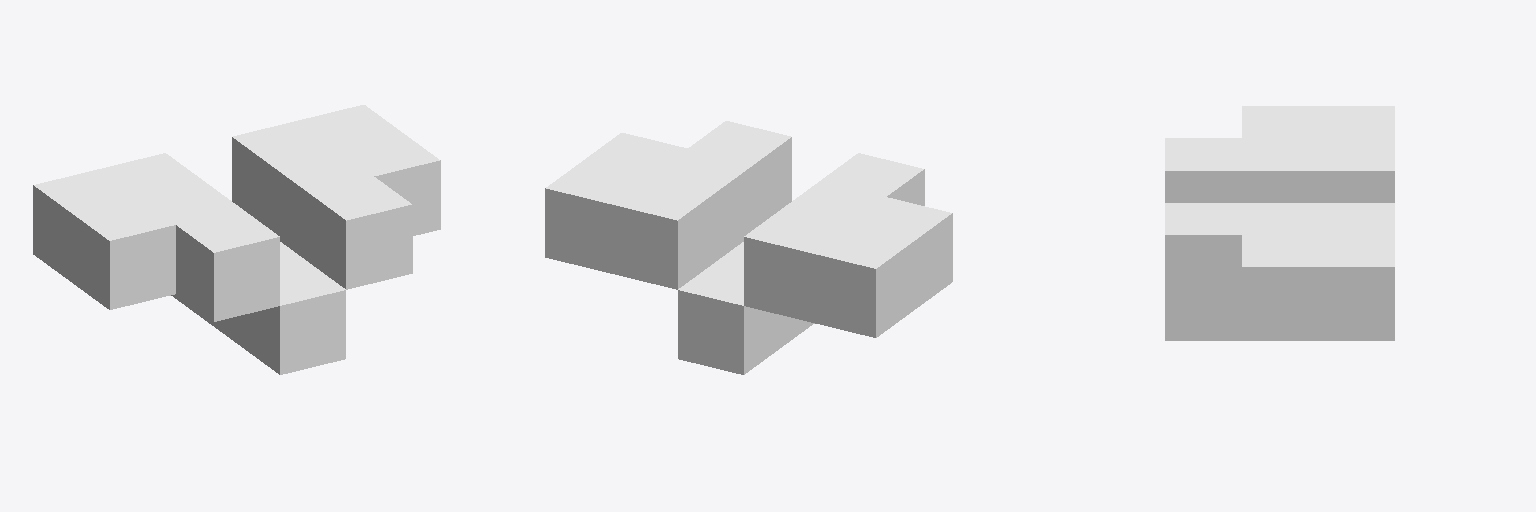
File: LawnModel-3.obj
3 renders of one model, left to right at view 1: azimuth 30°, elevation 25°; view 2: azimuth 150°, elevation 25°; view 3: azimuth 270°, elevation 25°, orthographic.
Parts seen in each view (by area): view 1: LawnModel-3; view 2: LawnModel-3; view 3: LawnModel-3.
Boxes of the visible parts, x1=… form: LawnModel-3: x1=33, y1=105, x2=440, y2=374; LawnModel-3: x1=545, y1=121, x2=952, y2=374; LawnModel-3: x1=1165, y1=106, x2=1394, y2=340.
Bounding box in the file's own units: 5 × 2 × 3.